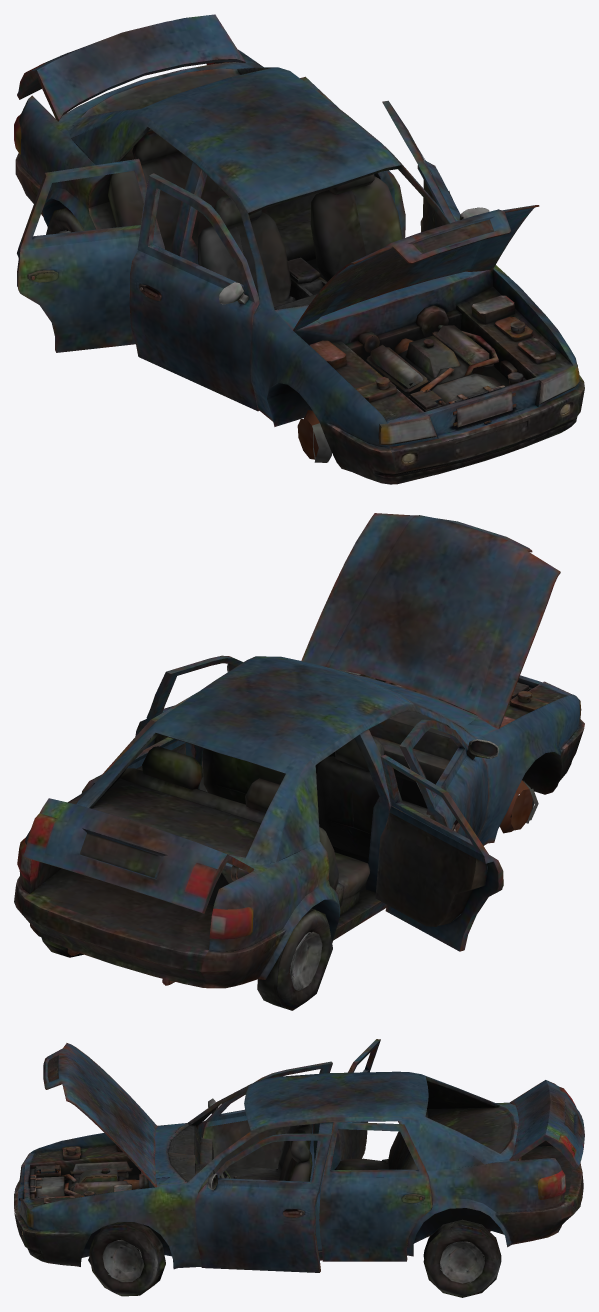
File: car_abandoned_sedan.glb
The picture shows the model from 3 angles, top to bottom: view 1: azimuth 30°, elevation 25°; view 2: azimuth 150°, elevation 25°; view 3: azimuth 270°, elevation 25°; orthographic projection. The views are drawn at different scales.
Parts seen in each view (by area): view 1: KUZA_0, Seats.001_6, ON QAPI_2, ARXA QAPI_3, Engine.001_8, BAQAJ_4, KAPOT_1, ON QAPI.001_12, SALON_5, TEKER.002_15, TEKER.003_11; view 2: KUZA_0, KAPOT_1, Seats.001_6, ARXA QAPI_3, BAQAJ_4, ON QAPI_2, TEKER.003_11, SALON_5, ON QAPI.001_12, TEKER.002_15, ARXA QAPI.001_13, Engine.001_8; view 3: KUZA_0, ON QAPI.001_12, ARXA QAPI.001_13, KAPOT_1, TEKER.001_14, TEKER.004_10, BAQAJ_4, ON QAPI_2, Engine.001_8, Seats.001_6, SALON_5, ARXA QAPI_3.
Part boxes in pixels (x1,y1,x2,y2): KUZA_0: (14,49,584,484); Seats.001_6: (108,130,402,306); ON QAPI_2: (129,173,259,411); ARXA QAPI_3: (17,158,165,352); Engine.001_8: (309,295,555,411); BAQAJ_4: (17,14,245,121); KAPOT_1: (293,205,539,331); ON QAPI.001_12: (382,100,489,232); SALON_5: (274,257,326,309); TEKER.002_15: (297,410,331,462); TEKER.003_11: (46,207,84,234); KUZA_0: (14,656,584,988); KAPOT_1: (301,513,560,728); Seats.001_6: (120,737,430,915); ARXA QAPI_3: (375,754,503,951); BAQAJ_4: (23,798,253,913); ON QAPI_2: (399,719,498,838); TEKER.003_11: (257,908,332,1010); SALON_5: (319,711,458,827); ON QAPI.001_12: (135,655,243,792); TEKER.002_15: (499,780,538,833); ARXA QAPI.001_13: (81,693,196,793); Engine.001_8: (333,668,549,727); KUZA_0: (14,1071,583,1269); ON QAPI.001_12: (195,1133,332,1272); ARXA QAPI.001_13: (319,1122,432,1261); KAPOT_1: (43,1043,157,1187); TEKER.001_14: (423,1219,501,1297); TEKER.004_10: (88,1222,165,1296); BAQAJ_4: (509,1080,584,1168); ON QAPI_2: (197,1061,332,1181); Engine.001_8: (35,1145,148,1203); Seats.001_6: (223,1109,428,1181); SALON_5: (168,1124,236,1192); ARXA QAPI_3: (330,1039,380,1169).
Bounding box in the file's own units: 12.73 × 7.76 × 21.34.
1 material, 1 textured.
